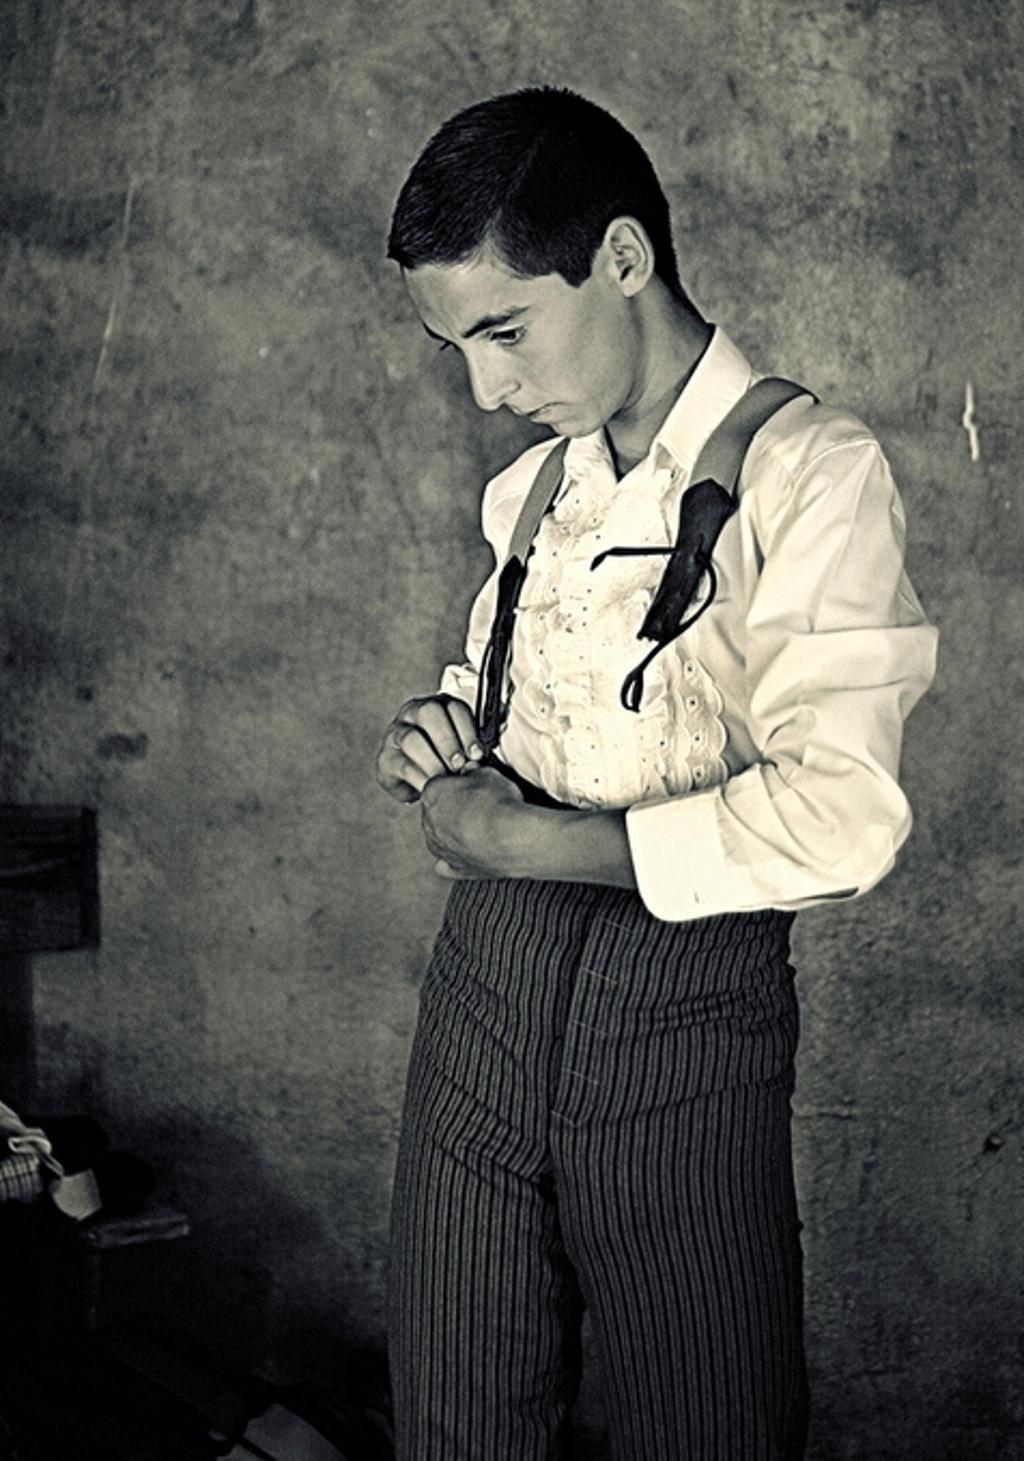face: (406, 218, 623, 438)
